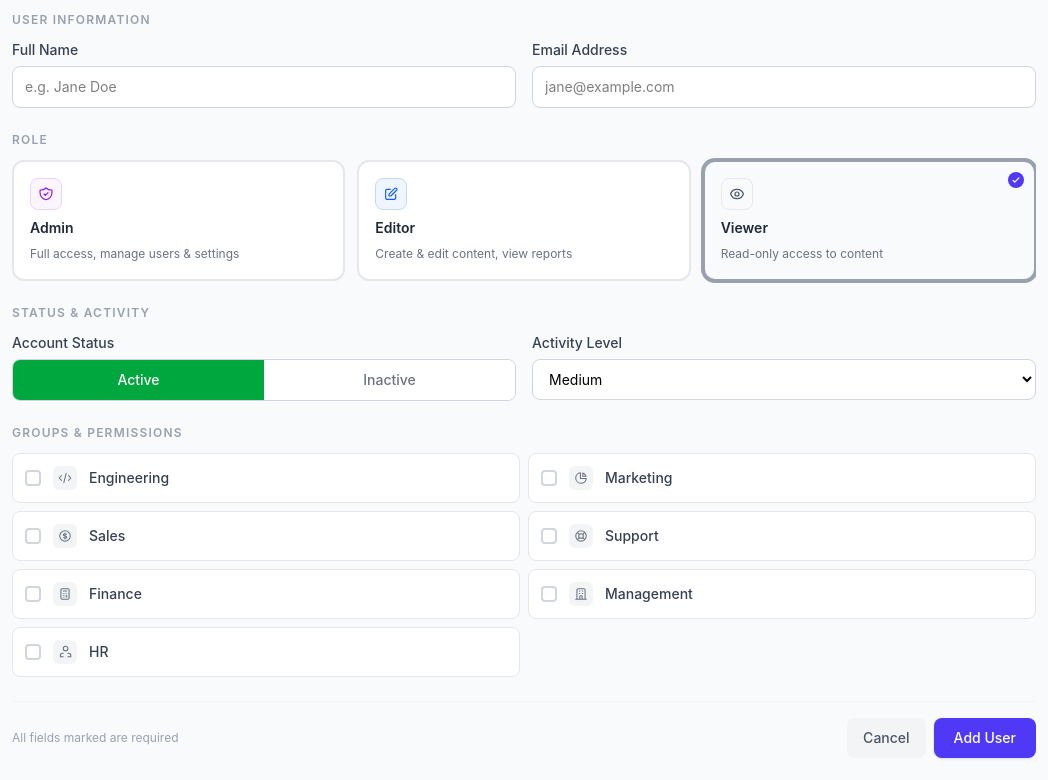
Test: Validation: invalid email › rejects "notanemail" as invalid
Type "Test User" into the field with placeholder "e.g. Jane Doe".
click(264, 87); type("Test User")  # box x1=12 y1=66 x2=516 y2=108
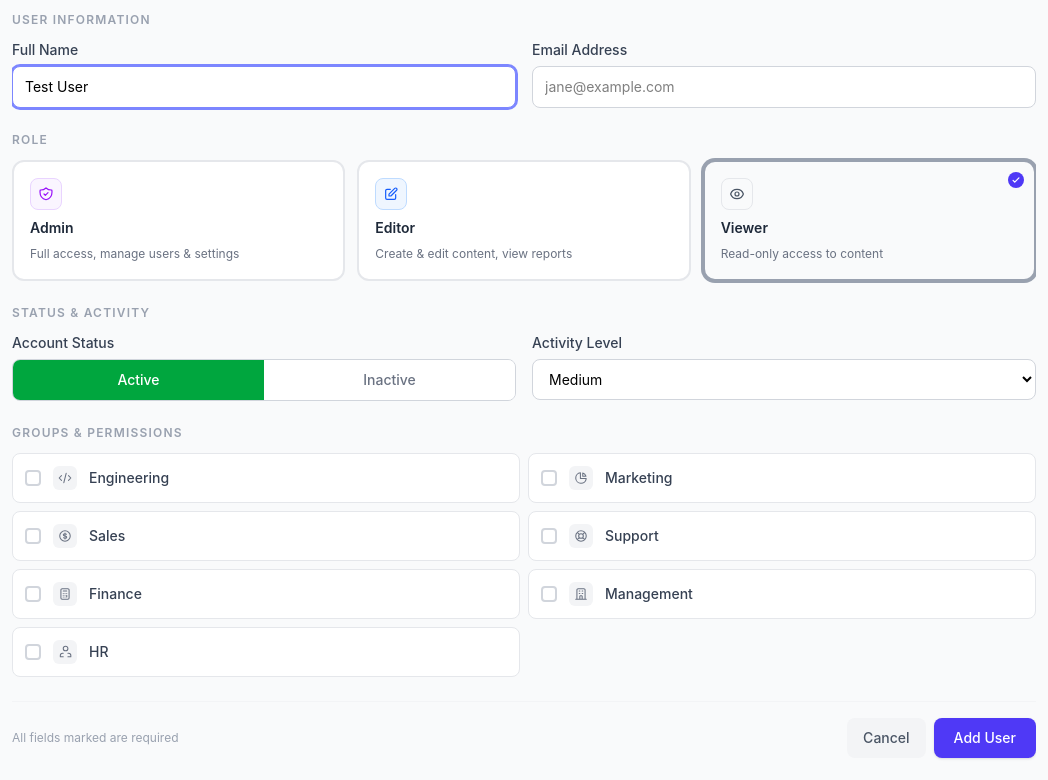
Type "notanemail" into the field with placeholder "jane@example.com".
click(784, 87); type("notanemail")  # box x1=532 y1=66 x2=1036 y2=108
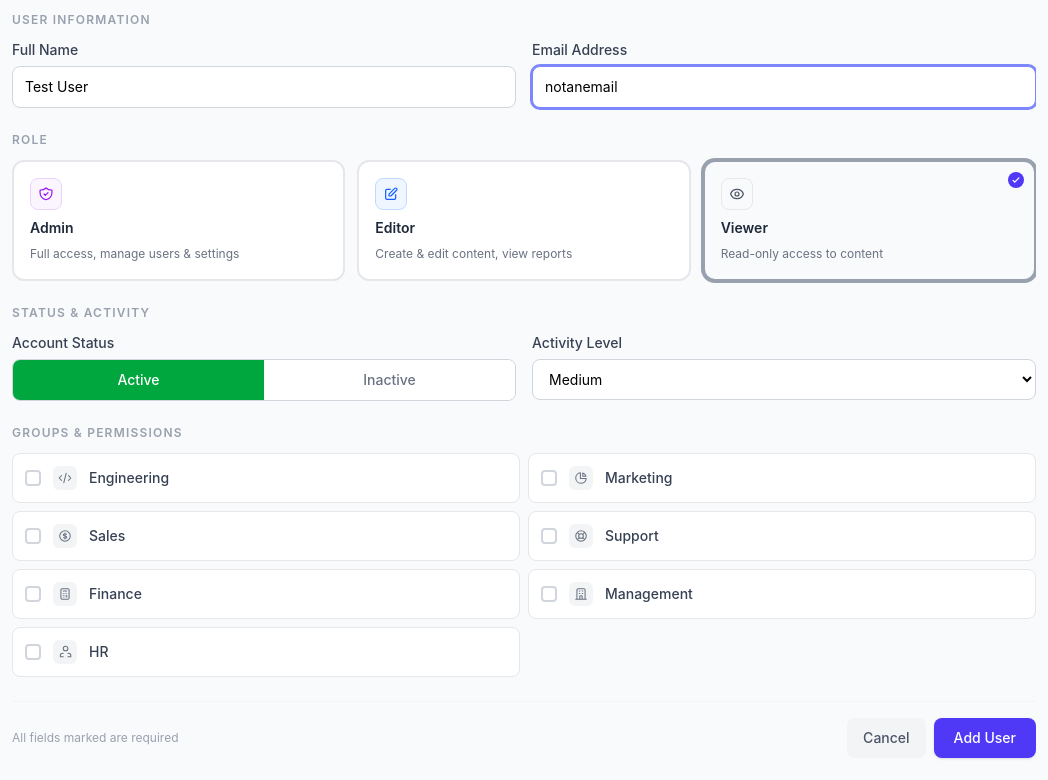
Click the button "Add User".
click(985, 738)  # box x1=934 y1=718 x2=1036 y2=758
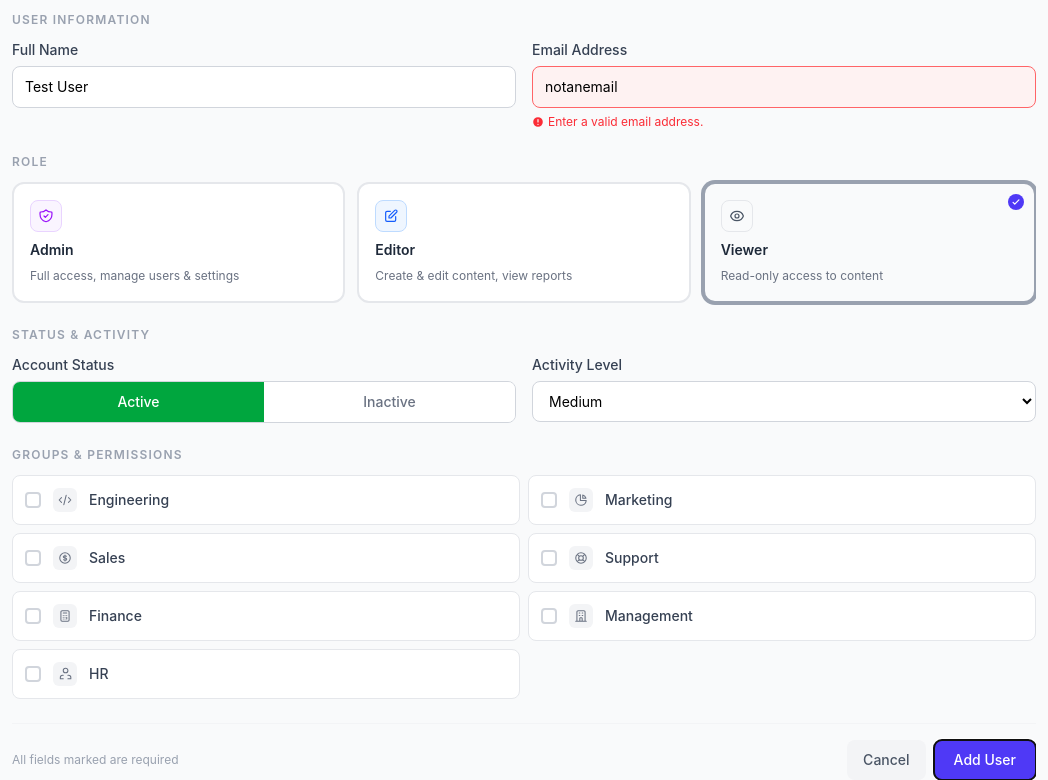
Expected: the text "Enter a valid email address." is shown, x1=532 y1=114 x2=703 y2=129
